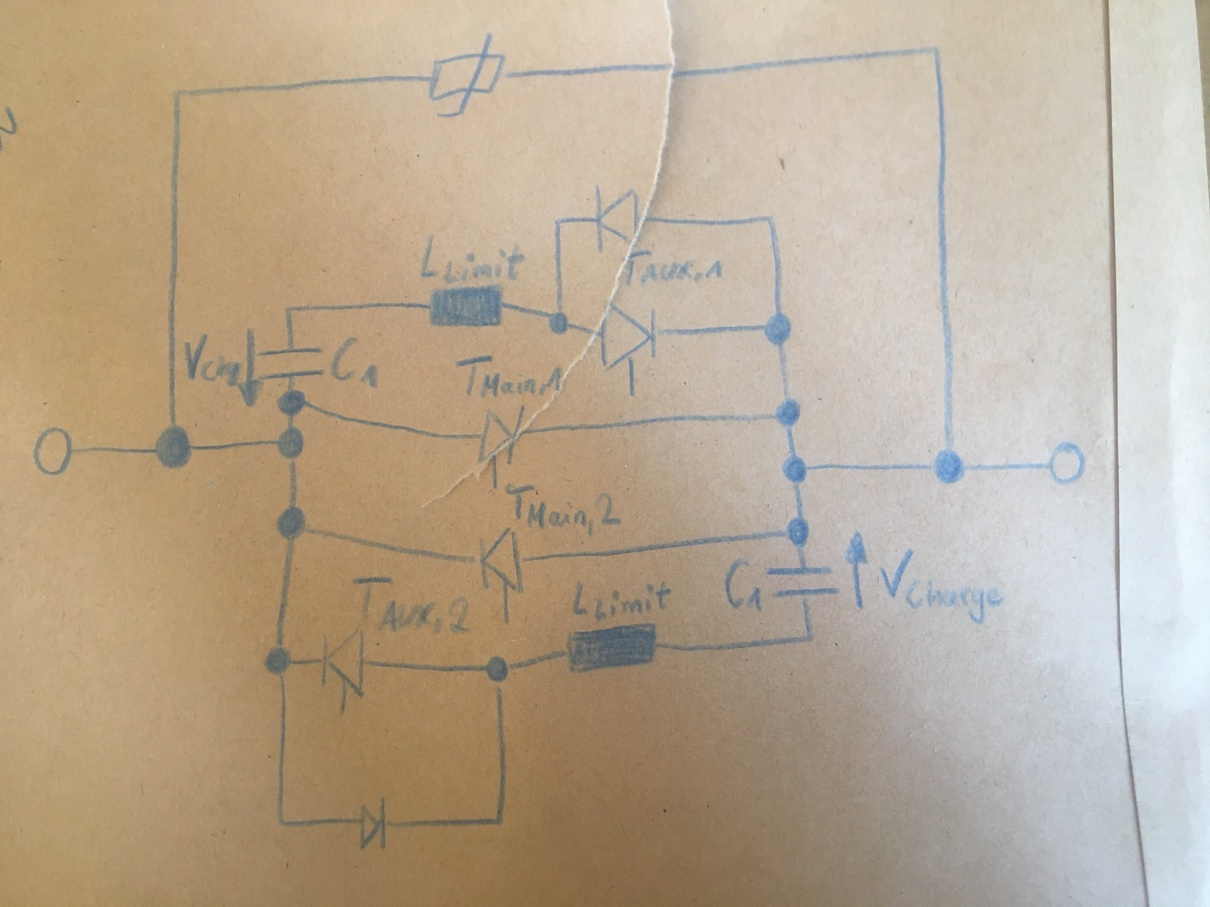capacitor.unpolarized: (766, 561, 842, 602), (256, 344, 327, 383)
diode: (591, 181, 645, 254), (356, 794, 389, 853)
inductor: (560, 620, 662, 677), (426, 284, 507, 330)
junction: (152, 420, 195, 471), (928, 443, 968, 486), (275, 505, 312, 542), (762, 310, 793, 348), (275, 425, 305, 463), (274, 386, 309, 418), (772, 395, 803, 431), (484, 654, 514, 691), (262, 643, 294, 677), (784, 514, 814, 550), (779, 452, 811, 485), (545, 308, 573, 337), (550, 211, 569, 232), (168, 85, 188, 102), (274, 814, 292, 832), (928, 41, 946, 59), (491, 813, 507, 829), (801, 630, 818, 645), (762, 212, 779, 226), (282, 302, 296, 316)
terminal: (31, 424, 76, 478), (1048, 440, 1088, 486)
text: (880, 548, 1004, 626), (350, 572, 471, 639), (503, 480, 622, 537), (417, 231, 527, 286), (454, 350, 566, 401), (570, 578, 673, 623), (620, 248, 727, 286), (181, 332, 243, 388), (328, 334, 381, 389), (723, 556, 764, 615)
thyristor: (596, 298, 658, 387), (472, 526, 528, 602), (319, 627, 368, 708), (476, 403, 528, 476)
varistor: (426, 29, 514, 121)
